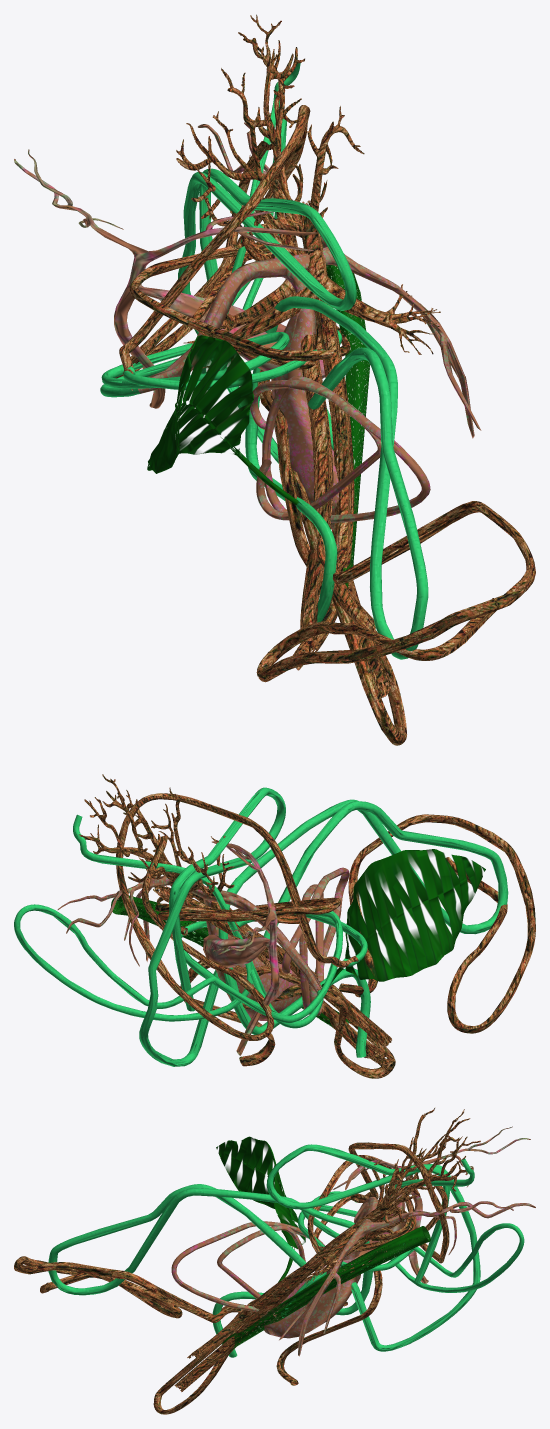
Rendered from topvines.2.glb.
The picture shows the model from 3 angles, top to bottom: view 1: azimuth 30°, elevation 25°; view 2: azimuth 150°, elevation 25°; view 3: azimuth 270°, elevation 25°; orthographic projection. The views are drawn at different scales.
Parts seen in each view (by area): view 1: jump_rope_246.044; view 2: jump_rope_246.044; view 3: jump_rope_246.044.
Boxes of the visible parts, x1,y1,x2,y2 form: jump_rope_246.044: [14, 14, 535, 745]; jump_rope_246.044: [14, 774, 535, 1078]; jump_rope_246.044: [14, 1107, 535, 1414].
Bounding box in the file's own units: 0.7066 × 0.9669 × 1.37.
Materials: 5 (5 with a texture image).
